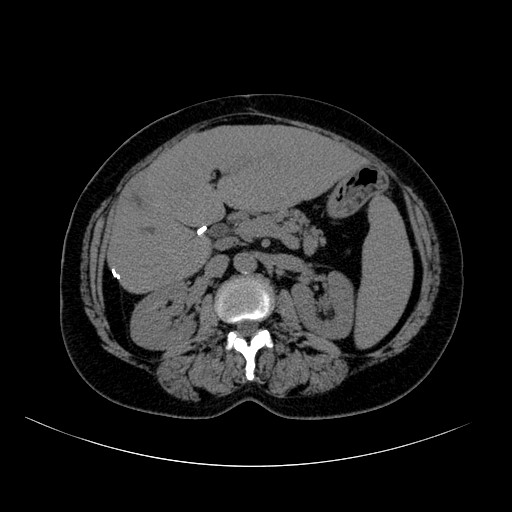clipe: (195, 224, 208, 236)
